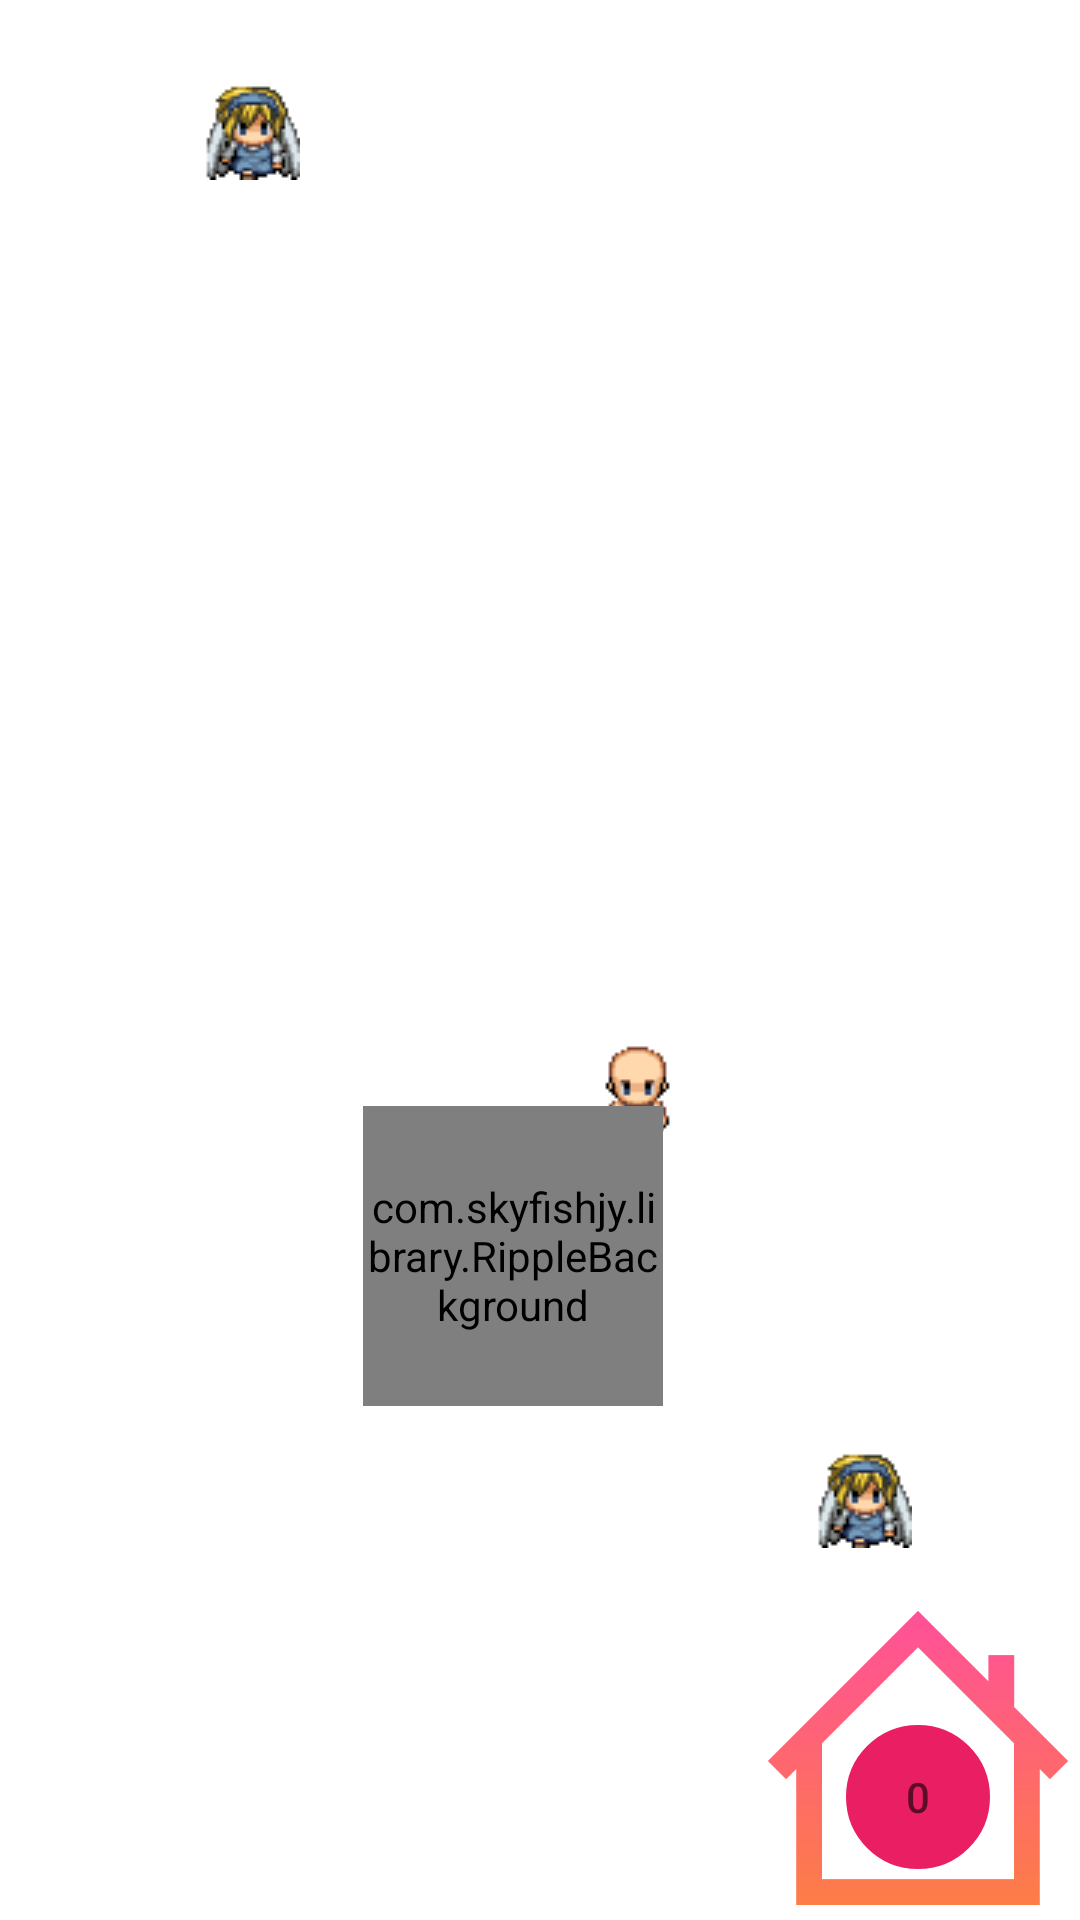

Named icons in this screenshot (1080×1920) and their bounding boxes, (x1=x1, y1=y1, x2=x2, y2=y2):
girl: (x1=206, y1=86, x2=300, y2=180), (x1=818, y1=1454, x2=912, y2=1548)
home: (x1=768, y1=1611, x2=1068, y2=1905)
